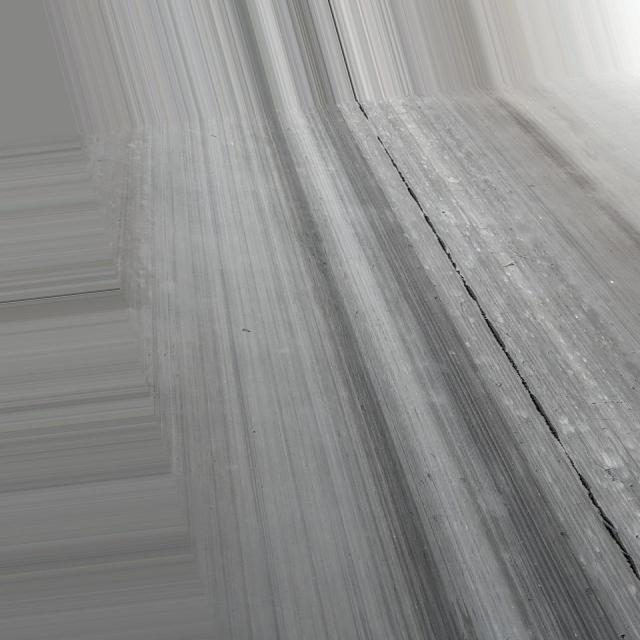Tear: (317, 9, 640, 592), (326, 5, 640, 581)
